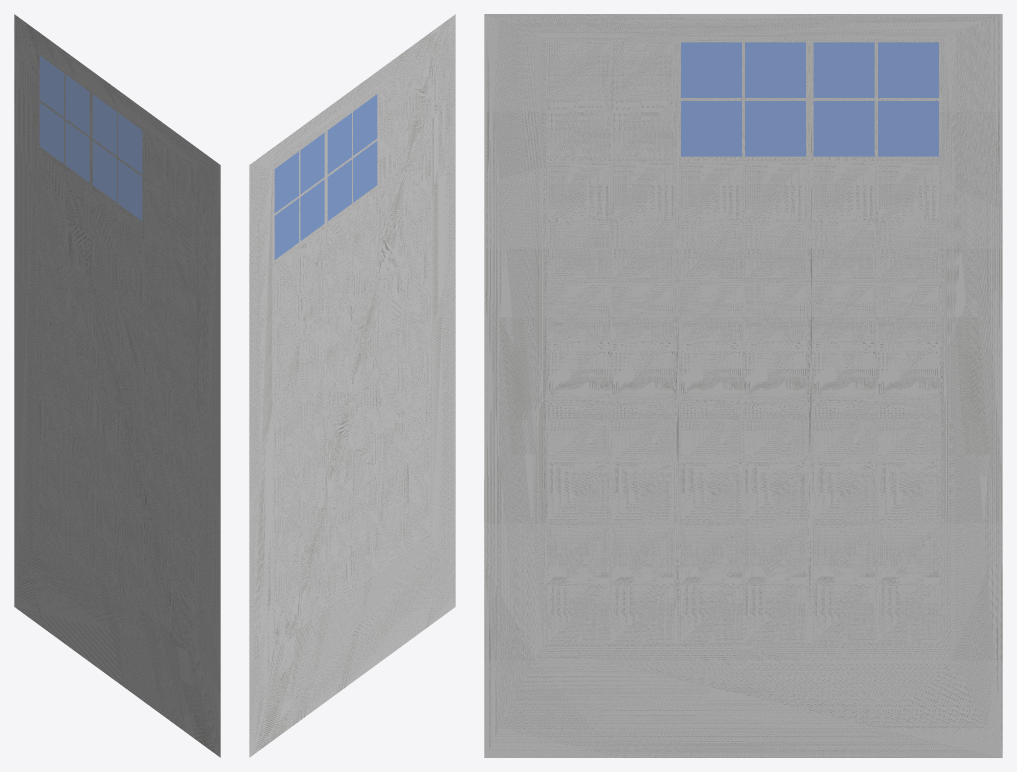
File: Library4Window.dae
3 renders of one model, left to right at view 1: azimuth 30°, elevation 25°; view 2: azimuth 150°, elevation 25°; view 3: azimuth 270°, elevation 25°, orthographic. The views are drawn at different scales.
Parts seen in each view (by area): view 1: SketchUp (×37), WindowSide_1 (×2); view 2: SketchUp (×37), WindowSide_1 (×2); view 3: SketchUp (×37), WindowSide_1 (×2).
Part boxes in pixels (left/top/right/bottom): SketchUp (×37): left=38, top=51, right=196, bottom=649; WindowSide_1 (×2): left=14, top=14, right=220, bottom=757; SketchUp (×37): left=273, top=51, right=431, bottom=649; WindowSide_1 (×2): left=249, top=14, right=455, bottom=757; SketchUp (×37): left=544, top=39, right=942, bottom=644; WindowSide_1 (×2): left=484, top=14, right=1002, bottom=757.
Size of the model in its own units: 6.92e-07 by 480 by 760.
